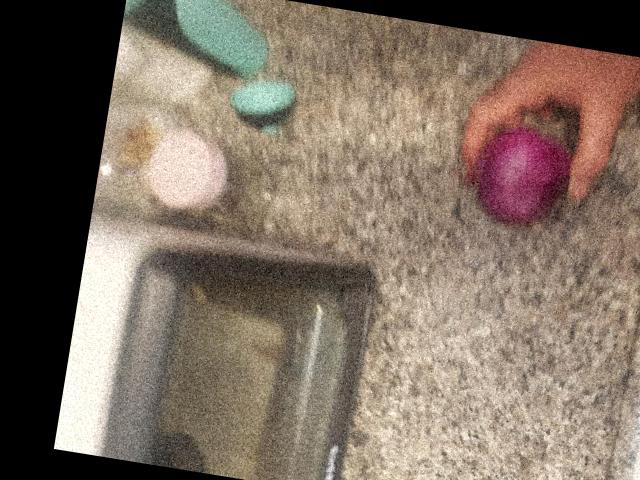onion: (470, 129, 578, 226)
